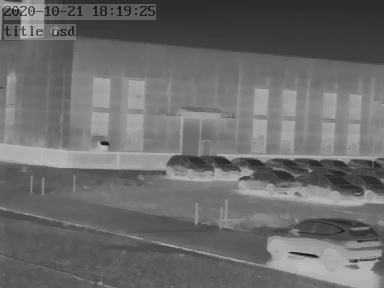vehicle: (268, 216, 382, 265), (301, 171, 361, 201), (240, 169, 304, 193), (165, 153, 211, 178), (347, 173, 384, 203), (206, 154, 242, 177), (234, 155, 271, 172), (263, 155, 302, 171), (348, 156, 378, 170), (317, 157, 346, 170), (296, 156, 324, 169)
